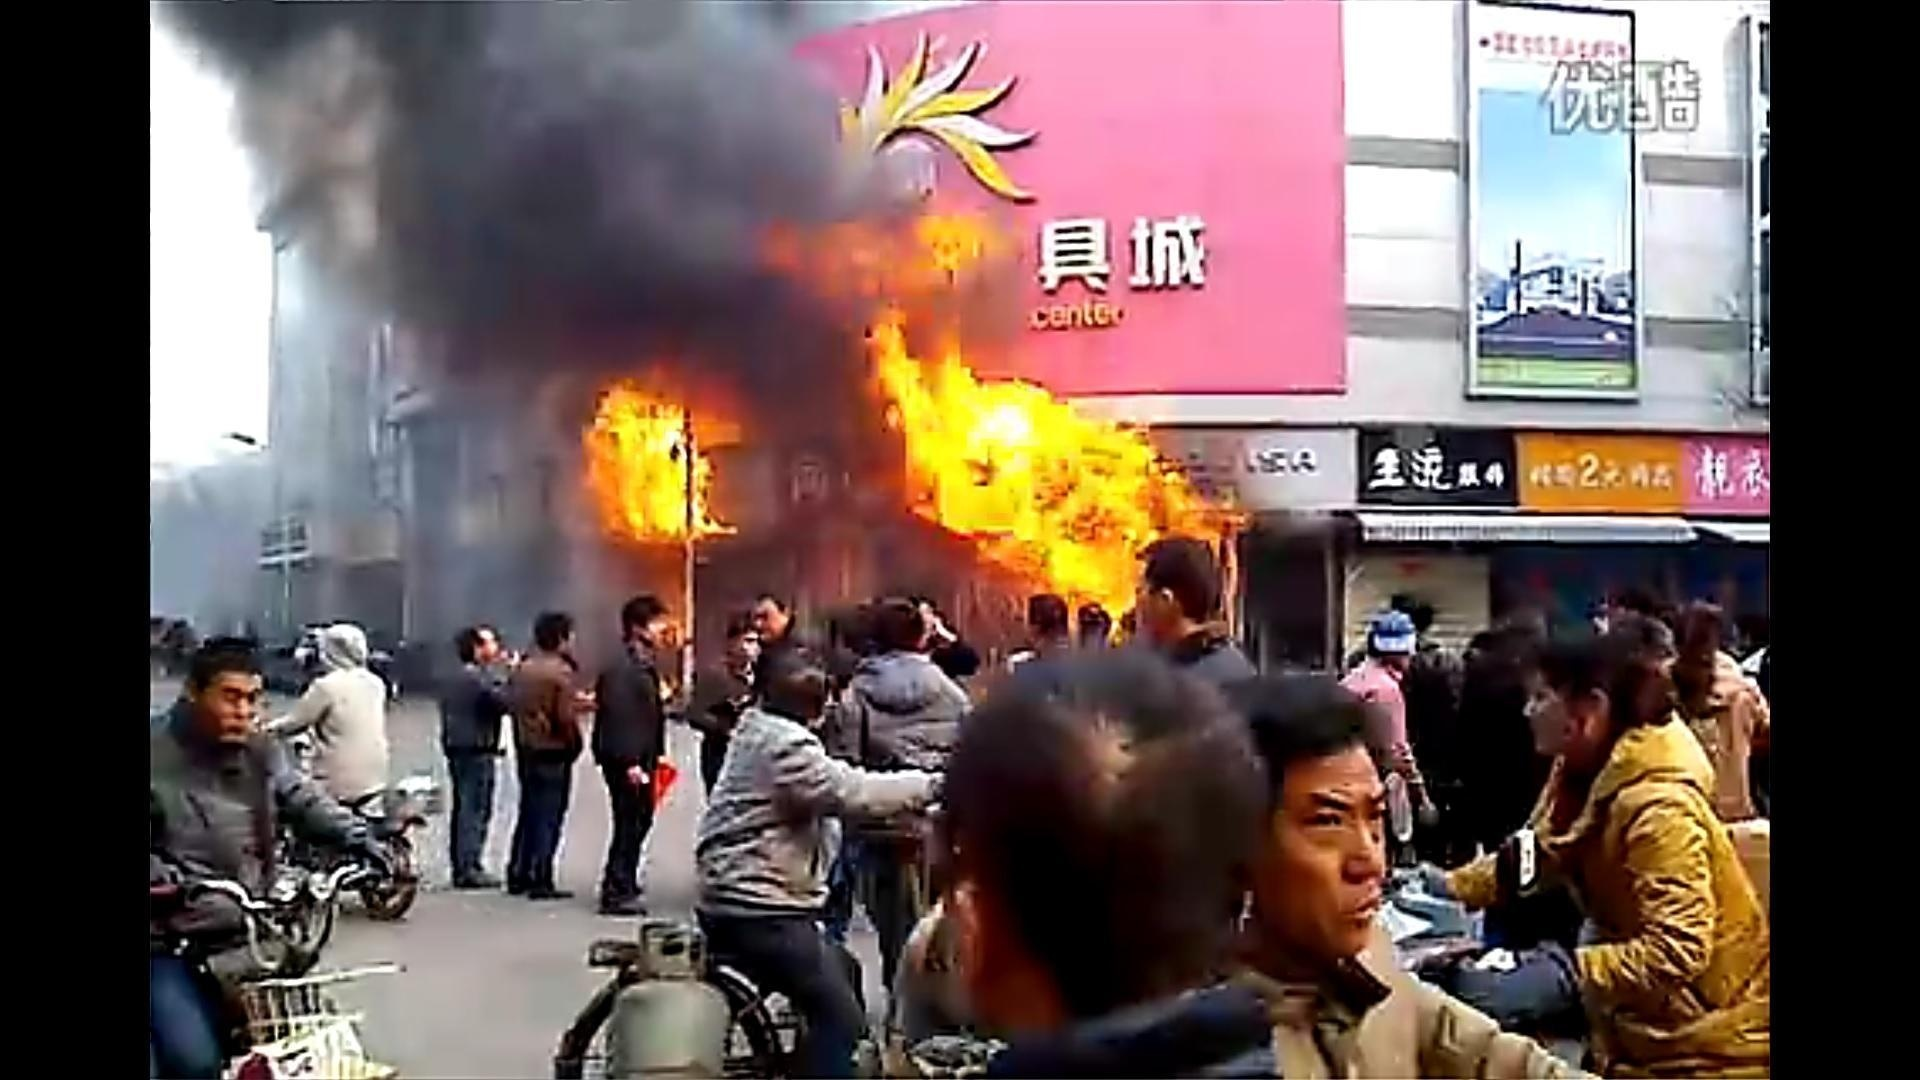fire: (858, 324, 1259, 632), (578, 381, 731, 542)
